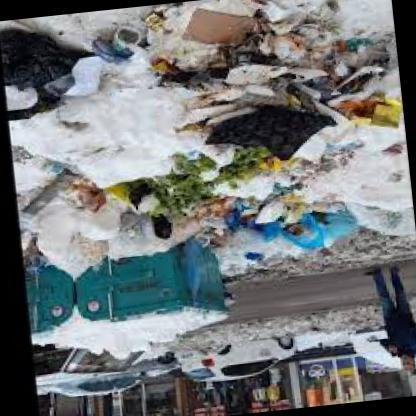Garbage: (139, 0, 406, 180), (17, 136, 294, 226), (136, 0, 327, 108), (26, 16, 164, 134), (309, 0, 409, 155), (91, 151, 232, 235), (223, 158, 330, 241), (257, 209, 364, 266), (208, 135, 272, 191)
